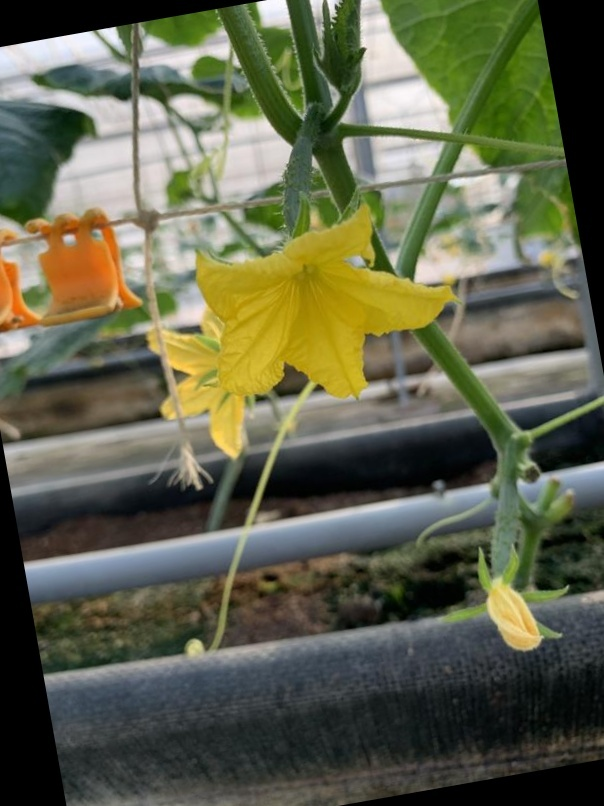flowering: (177, 117, 453, 404)
